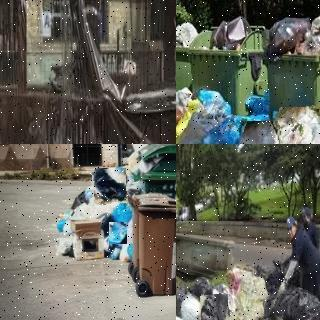Garbage: (255, 284, 320, 320), (262, 12, 311, 56), (276, 105, 320, 144), (195, 109, 242, 144), (177, 108, 215, 144), (93, 167, 127, 204), (235, 119, 285, 144), (200, 293, 229, 320), (187, 276, 213, 299), (111, 199, 132, 222), (109, 222, 127, 244)
